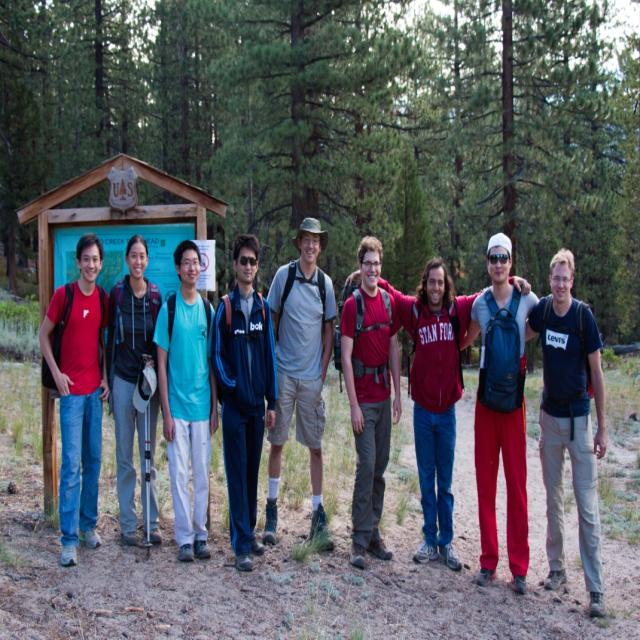body: (341, 250, 534, 572), (453, 229, 551, 594), (524, 247, 608, 619), (260, 208, 339, 558), (35, 231, 112, 571), (330, 233, 406, 571), (150, 235, 220, 567), (212, 233, 278, 571), (103, 230, 166, 550)
